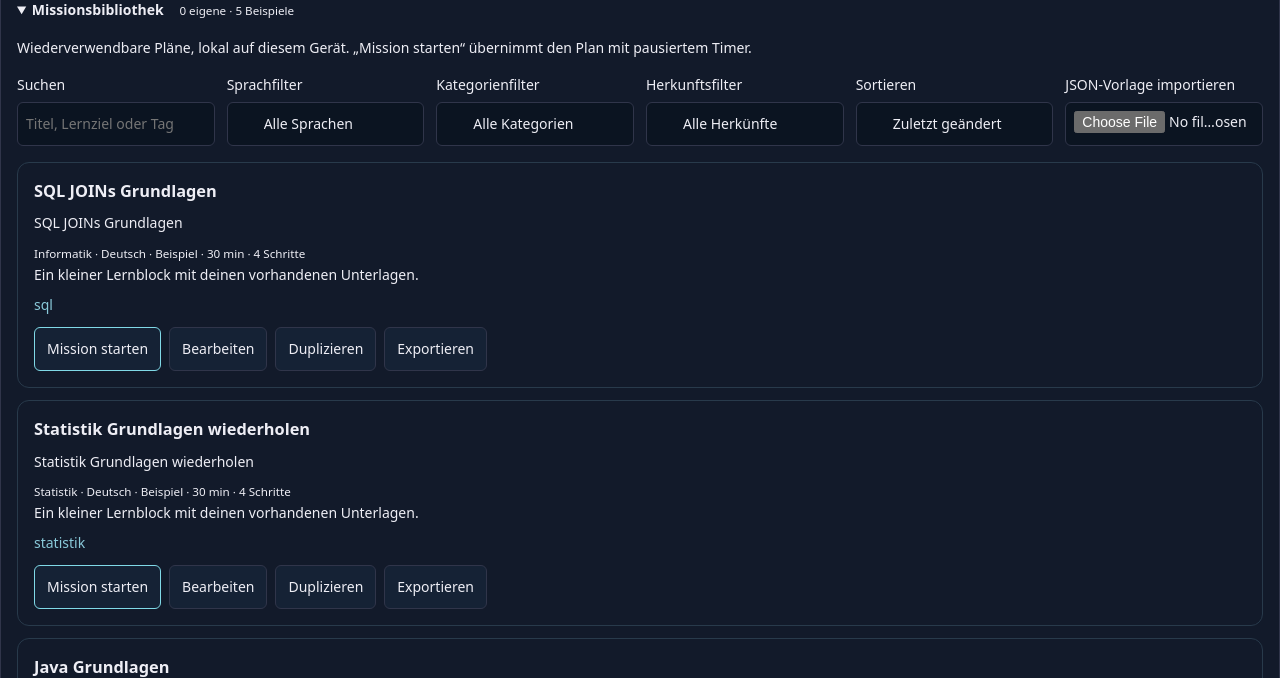
it: bearbeitet Beispiele als eigene Kopie und aktualisiert eigene Vorlagen explizit
This screenshot has width=1280, height=678.
Click the 1st button "Bearbeiten" at (218, 349), box x1=169 y1=327 x2=268 y2=371
(page scrolled)
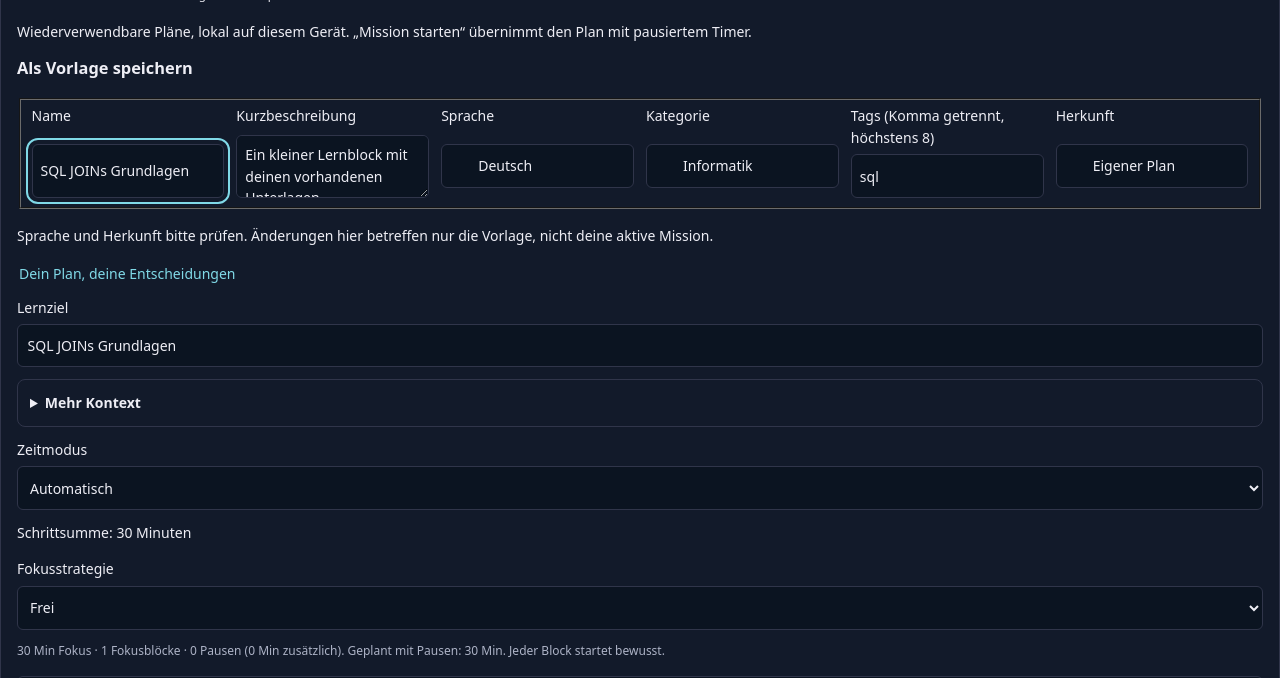
Replace the text in the field labelled "Name" with "Eigene Variante" at (128, 171), box x1=32 y1=144 x2=224 y2=198
(page scrolled)
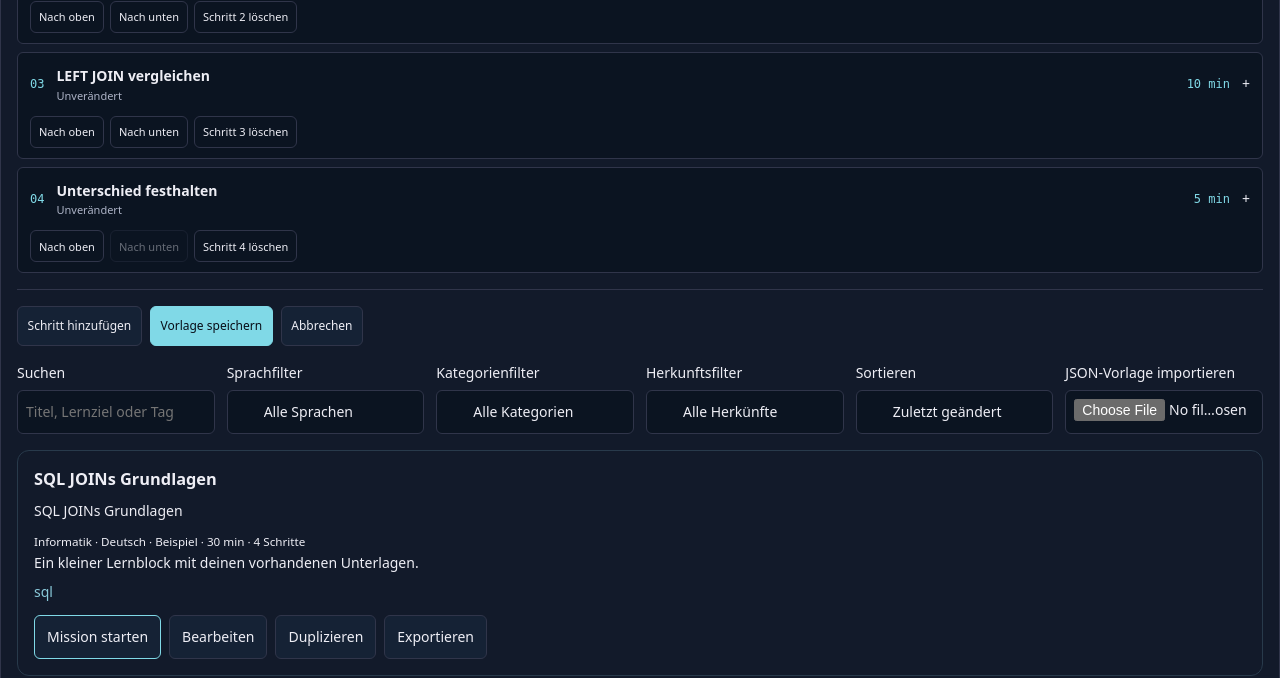
Click the button "Vorlage speichern" at (211, 326), box x1=150 y1=306 x2=273 y2=346
(page scrolled)
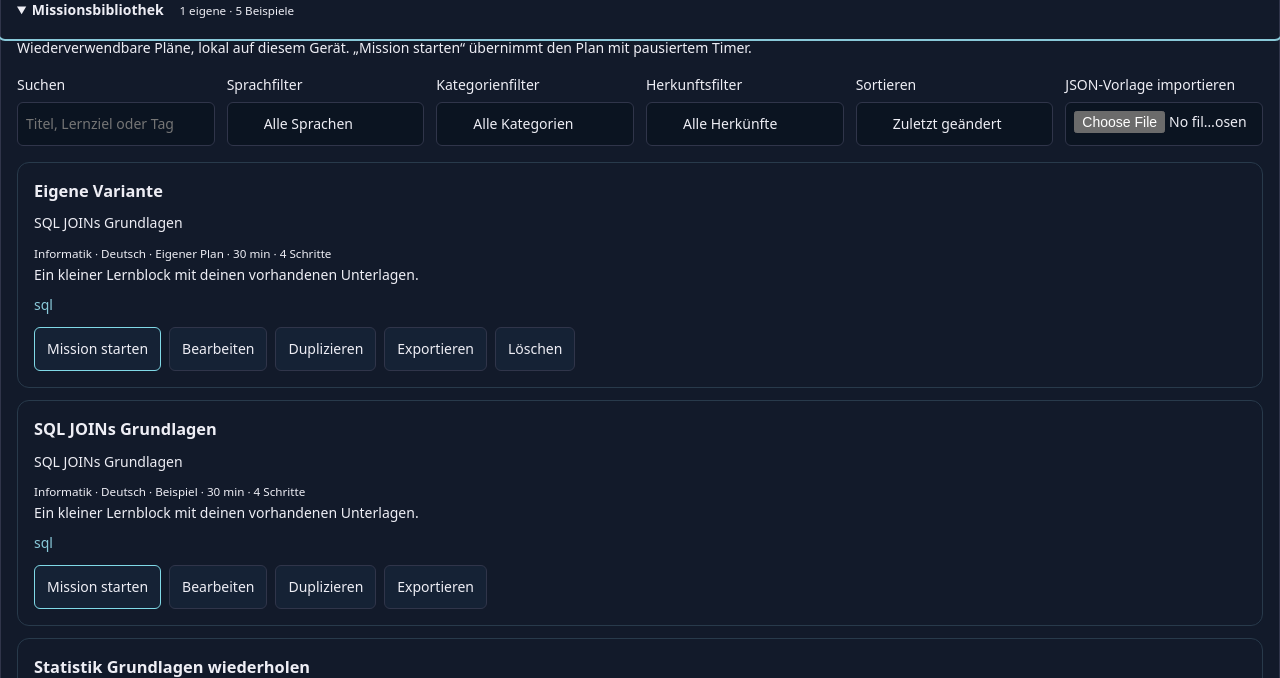
Click the button "Bearbeiten" below "Eigene Variante" at (218, 349), box x1=169 y1=327 x2=268 y2=371
(page scrolled)
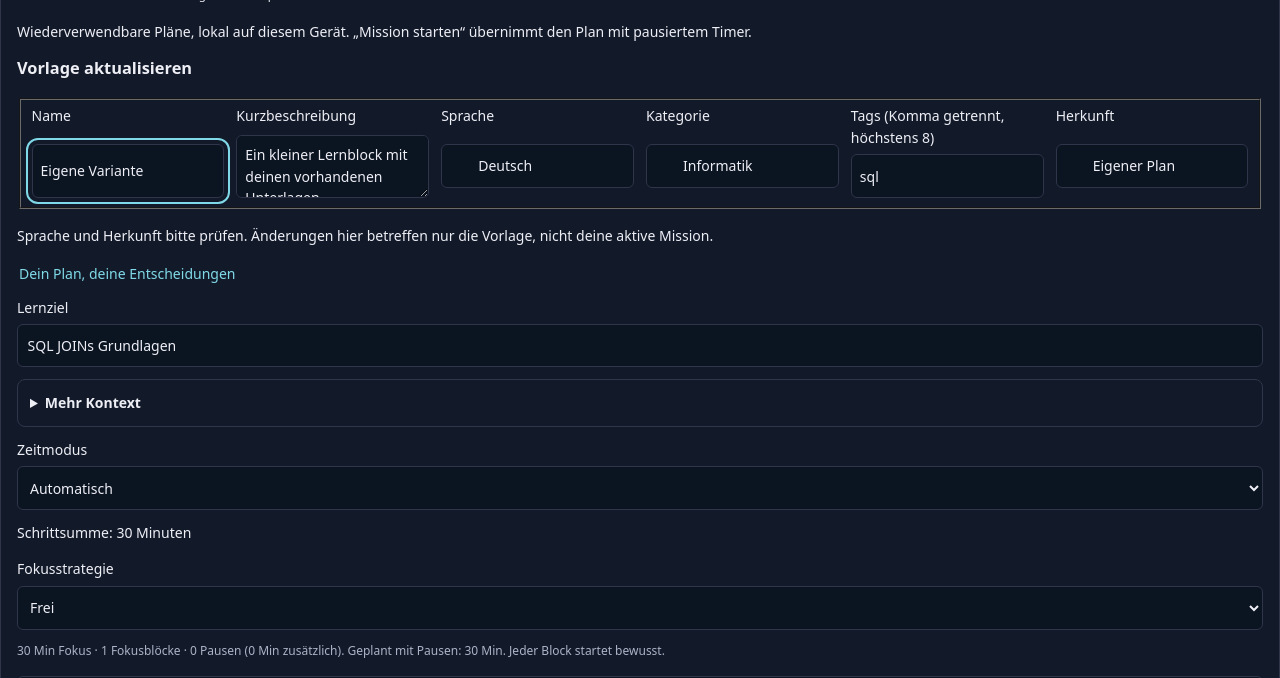
Replace the text in the field labelled "Name" with "Aktualisierte Variante" at (128, 171), box x1=32 y1=144 x2=224 y2=198
(page scrolled)
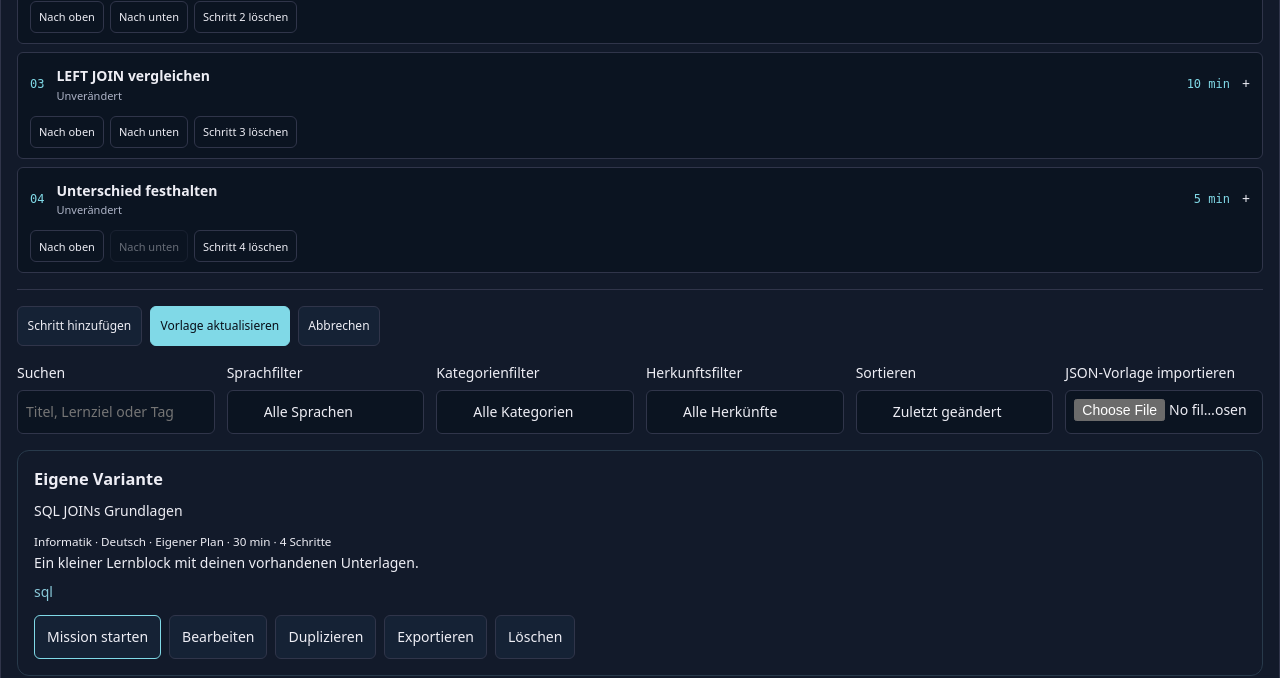
Click the button "Vorlage aktualisieren" at (220, 326), box x1=150 y1=306 x2=290 y2=346
(page scrolled)
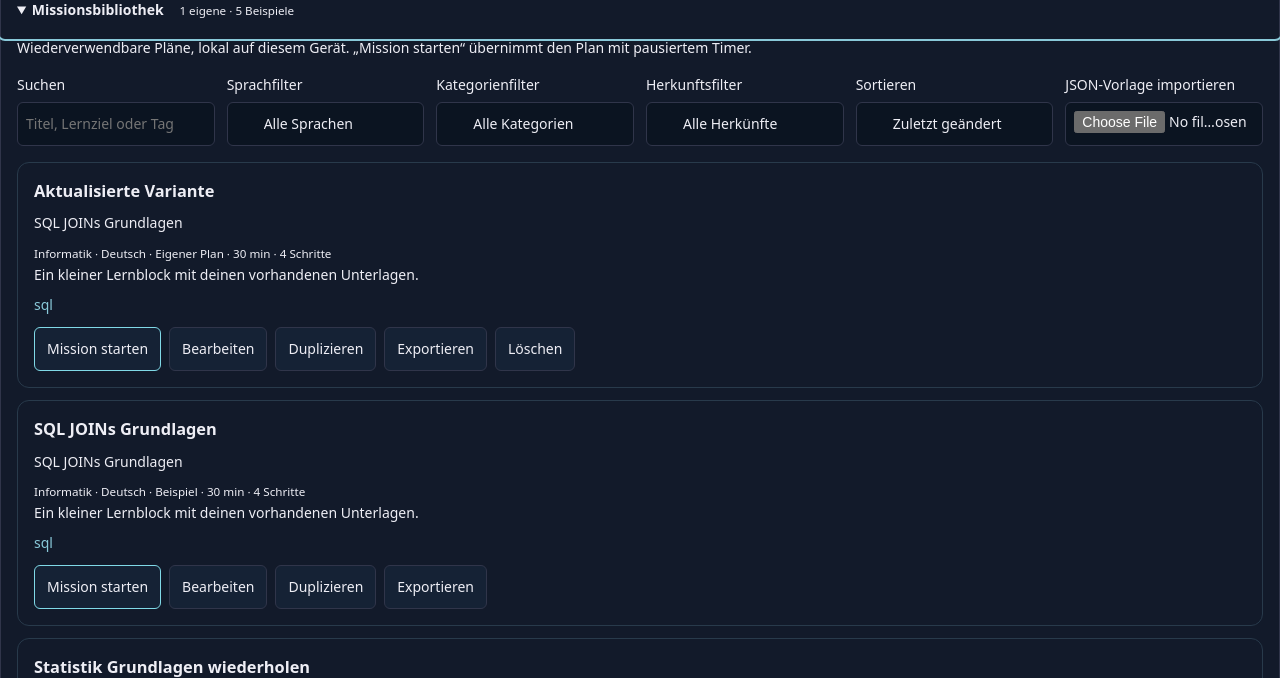
Now the heading named "Eigene Variante" reads "Aktualisierte Variante", box x1=34 y1=180 x2=214 y2=202
